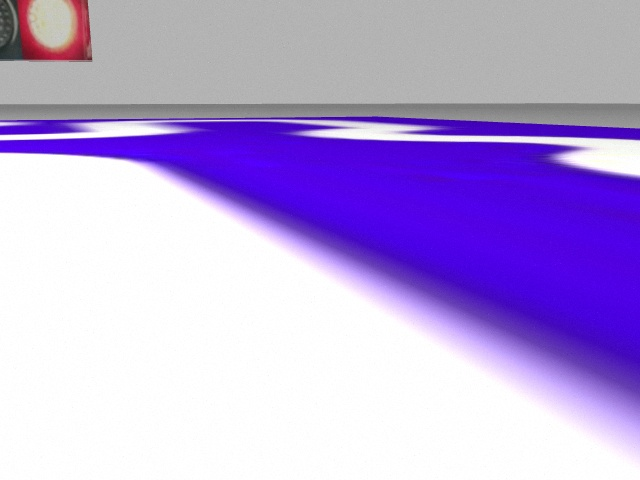red: (16, 2, 91, 59)
